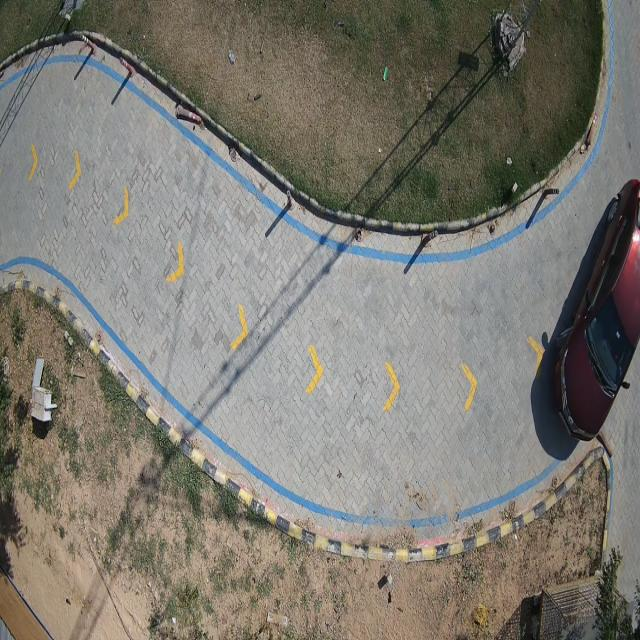car: (555, 180, 640, 439)
